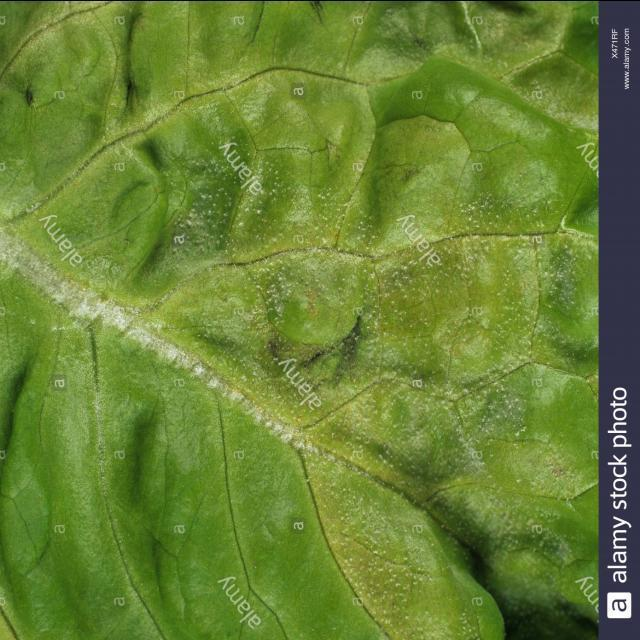Powdery_mildew_on_lettuce: (12, 203, 322, 473)
